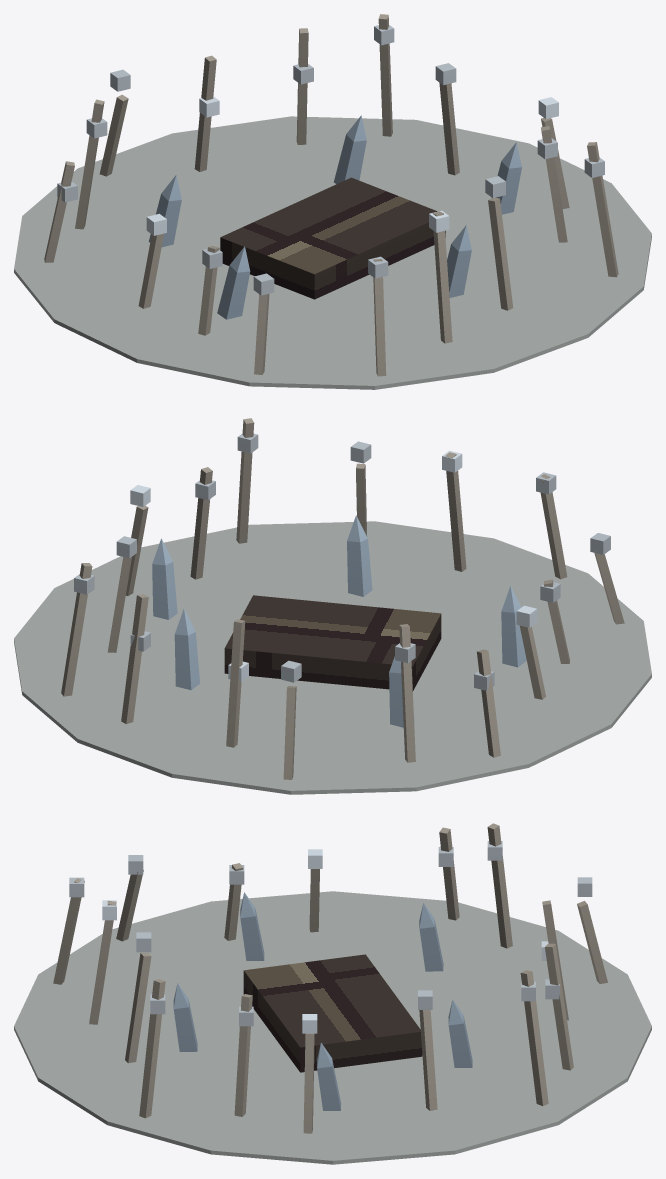
File: frost_scar.glb
3 views of the same model, one above another, from view 1: azimuth 30°, elevation 25°; view 2: azimuth 150°, elevation 25°; view 3: azimuth 270°, elevation 25° (orthographic).
Visible parts, largest first — view 1: frost_scar; view 2: frost_scar; view 3: frost_scar.
Boxes of the visible parts, bbox=[...] form: frost_scar: bbox=[14, 14, 651, 389]; frost_scar: bbox=[14, 418, 651, 794]; frost_scar: bbox=[14, 823, 651, 1164].
Size of the model in its own units: 3 by 0.71 by 3.
3 materials, 1 textured.
